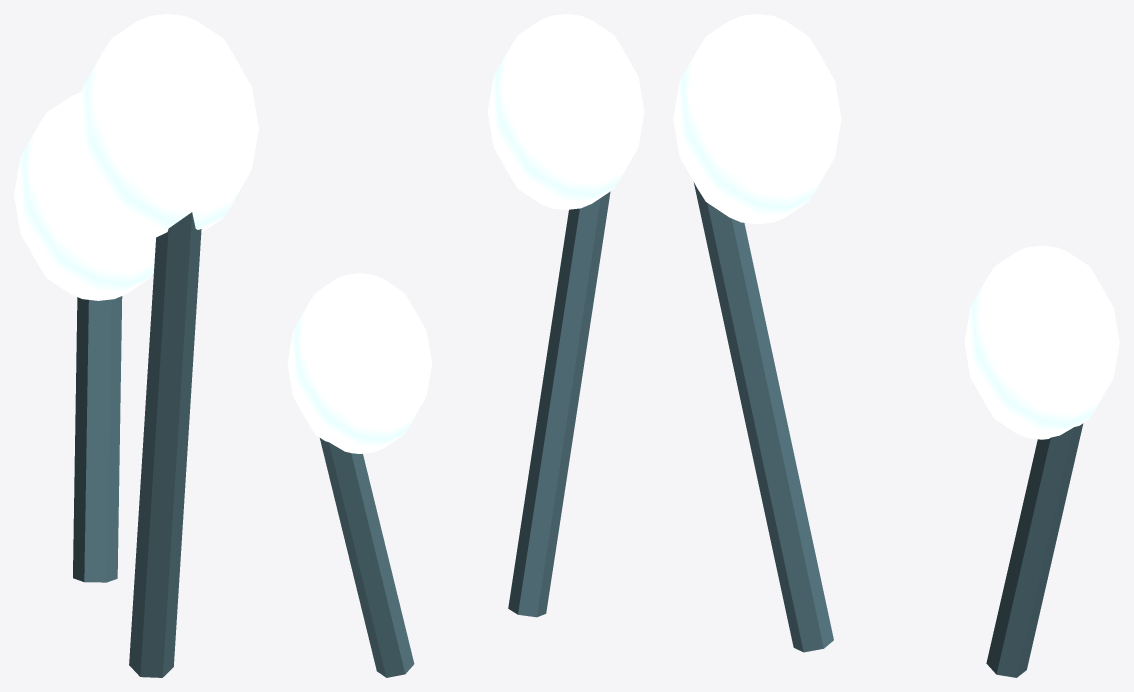
Rendered from flora_1.glb.
3 renders of one model, left to right at view 1: azimuth 30°, elevation 25°; view 2: azimuth 150°, elevation 25°; view 3: azimuth 270°, elevation 25°, orthographic. The views are drawn at different scales.
Parts seen in each view (by area): view 1: Cylinder; view 2: Cylinder; view 3: Cylinder.
Boxes of the visible parts, bbox=[...] form: Cylinder: bbox=[14, 14, 258, 677]; Cylinder: bbox=[287, 14, 644, 677]; Cylinder: bbox=[673, 14, 1119, 677].
Size of the model in its own units: 0.3683 by 0.9998 by 0.6502.
